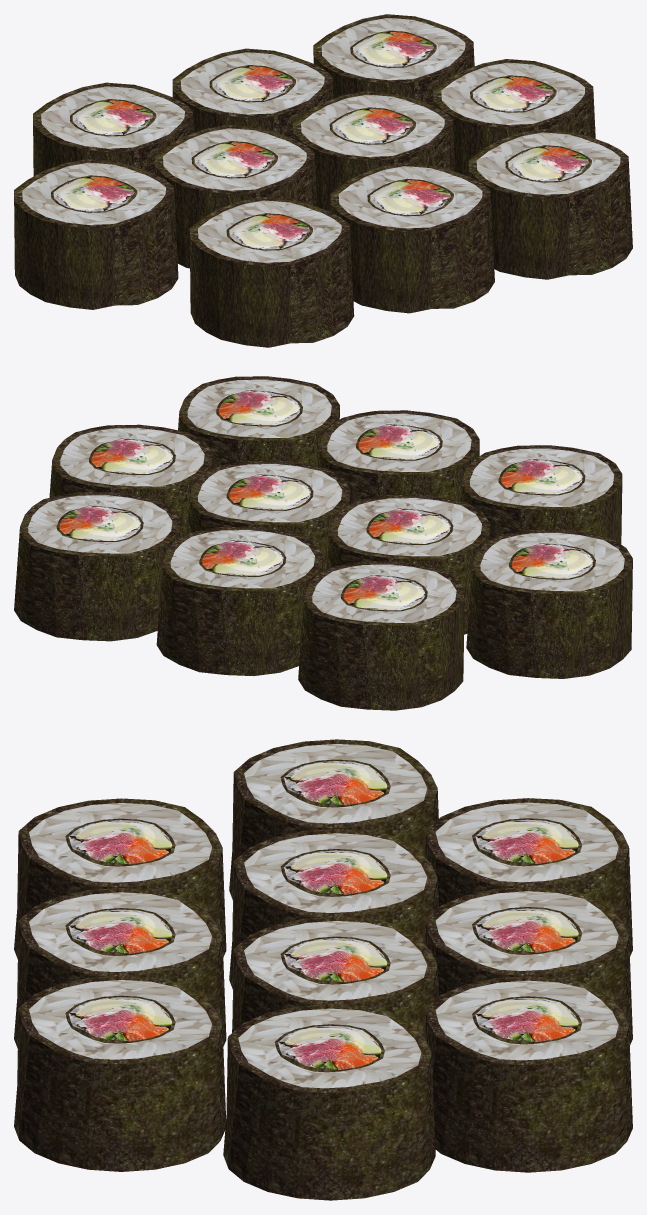
Rendered from 10 sushi.fbx.
3 views of the same model, one above another, from view 1: azimuth 30°, elevation 25°; view 2: azimuth 150°, elevation 25°; view 3: azimuth 270°, elevation 25° (orthographic). The views are drawn at different scales.
Visible parts, largest first — view 1: pasted__pasted__pasted__pasted__pCylinder1 (×3), pasted__pasted__pasted__pCylinder1 (×3), pasted__pasted__pCylinder1 (×2), pasted__pasted__pasted__pasted__pasted__pCylinder1, pasted__pCylinder1; view 2: pasted__pasted__pasted__pasted__pCylinder1 (×3), pasted__pasted__pasted__pCylinder1 (×3), pasted__pasted__pCylinder1 (×2), pasted__pasted__pasted__pasted__pasted__pCylinder1, pasted__pCylinder1; view 3: pasted__pasted__pasted__pCylinder1 (×3), pasted__pasted__pCylinder1 (×2), pasted__pasted__pasted__pasted__pCylinder1 (×3), pasted__pCylinder1, pasted__pasted__pasted__pasted__pasted__pCylinder1.
Part boxes in pixels (x1=…): pasted__pasted__pasted__pasted__pCylinder1 (×3): x1=154, y1=48, x2=354, y2=347; pasted__pasted__pasted__pCylinder1 (×3): x1=292, y1=14, x2=494, y2=313; pasted__pasted__pCylinder1 (×2): x1=33, y1=82, x2=632, y2=279; pasted__pasted__pasted__pasted__pasted__pCylinder1: x1=14, y1=159, x2=178, y2=309; pasted__pCylinder1: x1=433, y1=59, x2=595, y2=176; pasted__pasted__pasted__pasted__pCylinder1 (×3): x1=156, y1=445, x2=622, y2=676; pasted__pasted__pasted__pCylinder1 (×3): x1=14, y1=410, x2=479, y2=641; pasted__pasted__pCylinder1 (×2): x1=178, y1=376, x2=464, y2=710; pasted__pasted__pasted__pasted__pasted__pCylinder1: x1=466, y1=529, x2=632, y2=678; pasted__pCylinder1: x1=49, y1=424, x2=212, y2=537; pasted__pasted__pasted__pCylinder1 (×3): x1=14, y1=888, x2=632, y2=1172; pasted__pasted__pCylinder1 (×2): x1=14, y1=798, x2=632, y2=1171; pasted__pasted__pasted__pasted__pCylinder1 (×3): x1=14, y1=798, x2=632, y2=1044; pasted__pCylinder1: x1=223, y1=1004, x2=435, y2=1200; pasted__pasted__pasted__pasted__pasted__pCylinder1: x1=229, y1=739, x2=438, y2=899.
Size of the model in its own units: 16.99 by 2.54 by 12.5.
41 materials, 40 textured.
